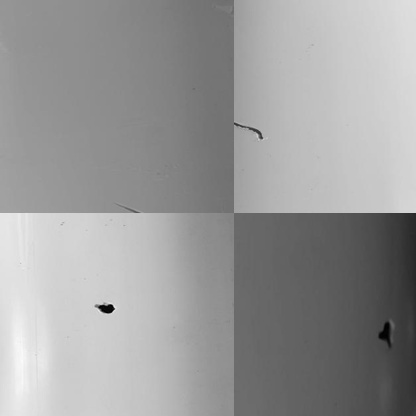fengxi: (232, 121, 267, 141)
kongdong: (375, 317, 396, 346), (93, 300, 116, 315)
sunshang: (113, 199, 146, 214)
